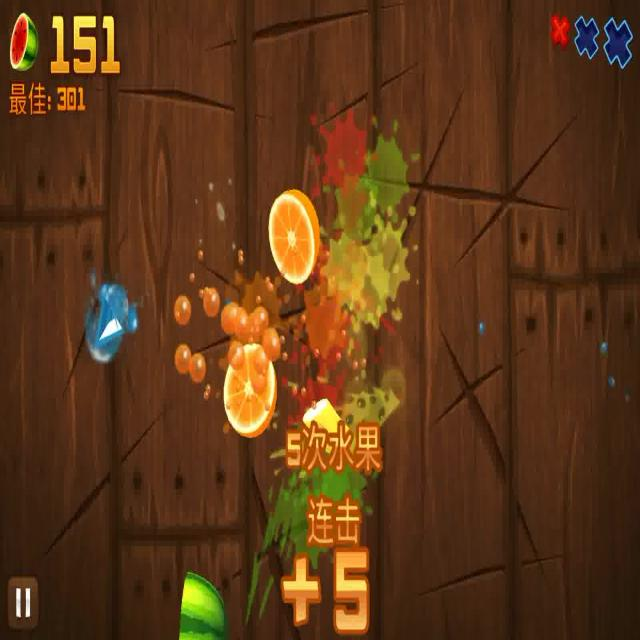fruit: (266, 187, 318, 288), (222, 342, 276, 433), (180, 562, 223, 640), (304, 396, 349, 450)
